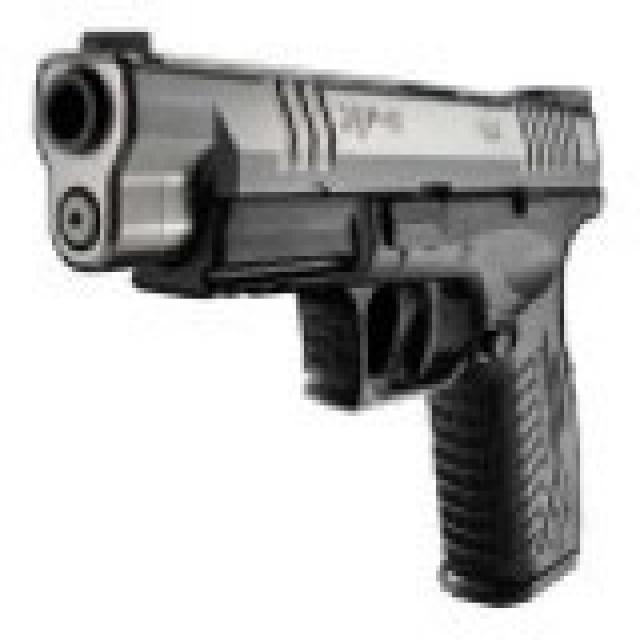Gun: (15, 10, 635, 585)
